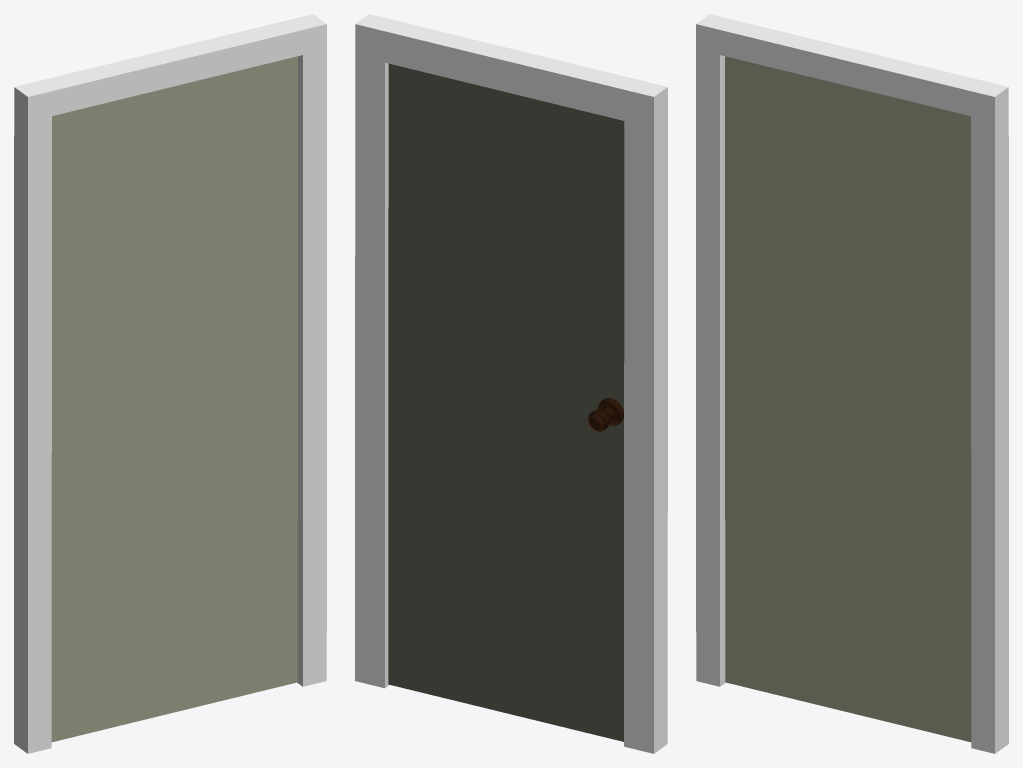
3 views of the same model, side by side, from view 1: azimuth 30°, elevation 25°; view 2: azimuth 150°, elevation 25°; view 3: azimuth 330°, elevation 25° (orthographic).
Parts seen in each view (by area): view 1: Door_054e16b4, FP202:polySurface1_158e28cc; view 2: Door_054e16b4, FP202:polySurface1_158e28cc, Doorknob_5effc7a9; view 3: Door_054e16b4, FP202:polySurface1_158e28cc.
Part boxes in pixels (x1=…): Door_054e16b4: x1=51, y1=56, x2=297, y2=742; FP202:polySurface1_158e28cc: x1=14, y1=14, x2=326, y2=753; Door_054e16b4: x1=388, y1=63, x2=624, y2=741; FP202:polySurface1_158e28cc: x1=355, y1=14, x2=667, y2=753; Doorknob_5effc7a9: x1=588, y1=398, x2=623, y2=431; Door_054e16b4: x1=725, y1=56, x2=971, y2=742; FP202:polySurface1_158e28cc: x1=696, y1=14, x2=1008, y2=753.
Size of the model in its own units: 1 by 2.1 by 0.1441.
